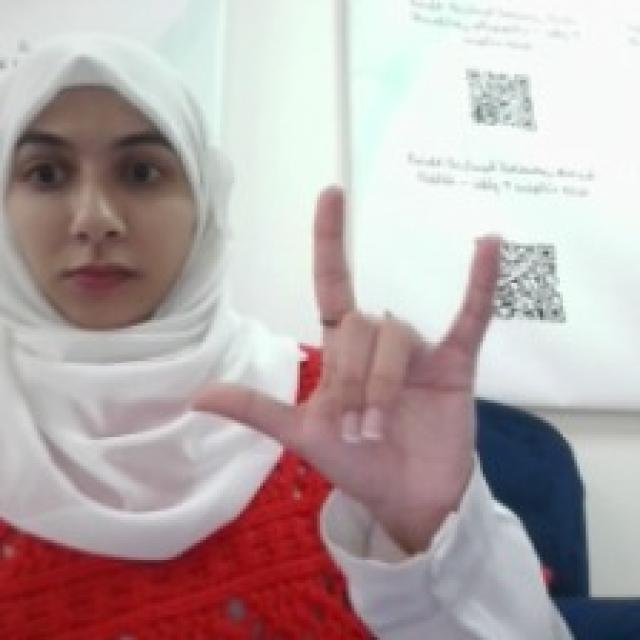love: (185, 177, 506, 512)
